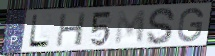5: (89, 9, 114, 47)
G: (176, 7, 205, 44)
H: (54, 12, 88, 48)
L: (27, 13, 51, 48)
M: (113, 9, 147, 46)
S: (145, 7, 177, 47)
